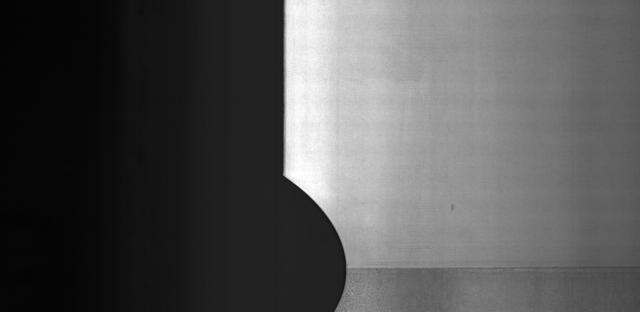crescent_gap: (273, 165, 362, 312)
welding_line: (336, 262, 640, 285)
